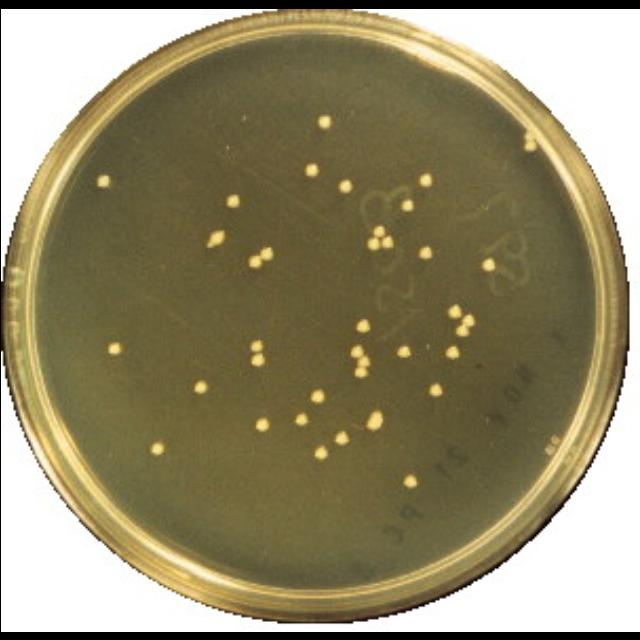colony: (545, 433, 561, 455), (524, 129, 539, 152), (206, 231, 225, 247), (366, 412, 383, 428), (247, 254, 263, 268), (339, 178, 353, 193), (379, 234, 394, 248), (260, 245, 273, 261), (317, 114, 331, 128), (356, 318, 370, 332), (404, 473, 417, 488), (194, 379, 207, 393), (256, 417, 269, 431), (397, 344, 411, 357), (447, 304, 460, 318), (311, 388, 324, 402), (335, 431, 349, 444), (445, 345, 459, 358), (96, 174, 109, 187), (306, 162, 319, 175), (226, 194, 239, 207), (250, 352, 263, 365), (351, 344, 364, 357), (107, 342, 121, 354), (150, 442, 164, 454), (483, 257, 495, 271), (463, 313, 475, 327), (250, 339, 263, 351), (401, 198, 413, 211), (366, 237, 379, 249), (419, 245, 431, 258), (315, 445, 327, 458), (455, 324, 469, 335), (419, 173, 431, 185), (429, 383, 441, 395), (356, 365, 367, 377), (357, 355, 370, 365), (374, 224, 385, 235), (295, 413, 306, 424)
